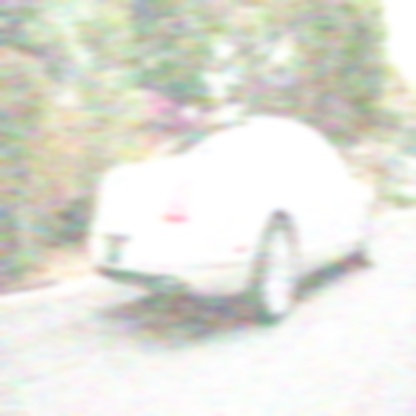Vehicle: (86, 107, 386, 332)
